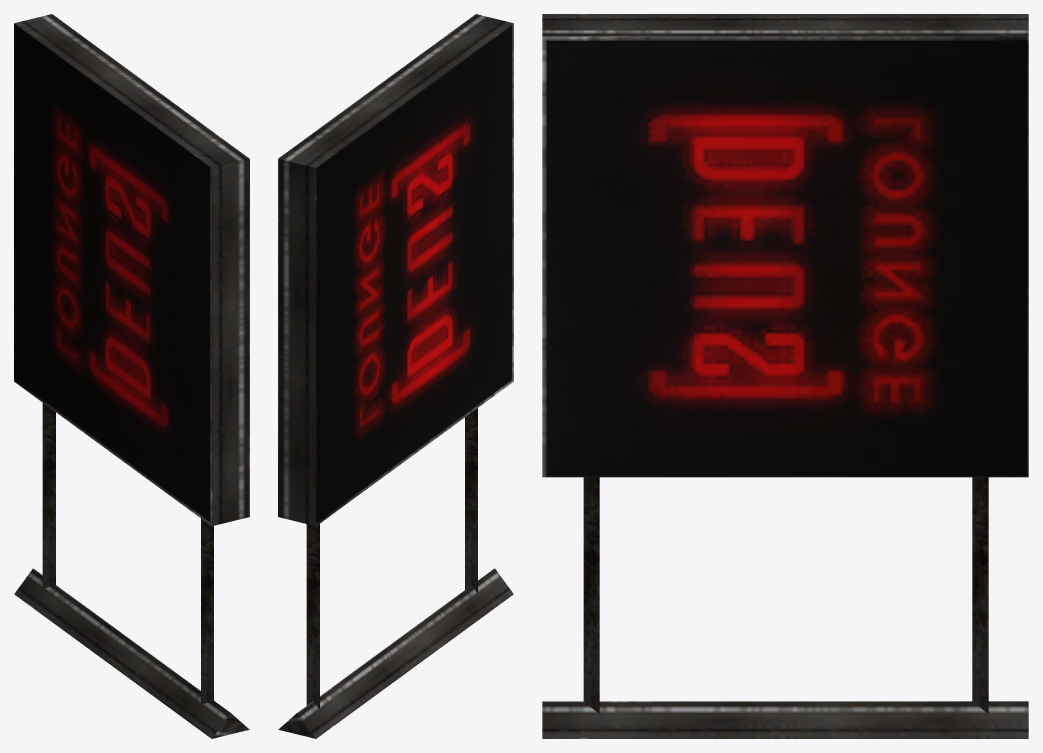
The model's file is deus.fbx.
The picture shows the model from 3 angles, left to right: view 1: azimuth 30°, elevation 25°; view 2: azimuth 150°, elevation 25°; view 3: azimuth 270°, elevation 25°; orthographic projection. The views are drawn at different scales.
Parts seen in each view (by area): view 1: mesh_0; view 2: mesh_0; view 3: mesh_0.
Part boxes in pixels (<box>): mesh_0: <box>14,14,249,738</box>; mesh_0: <box>278,14,513,738</box>; mesh_0: <box>542,14,1028,738</box>.
Size of the model in its own units: 25 by 359 by 225.
Materials: 1 (1 with a texture image).
